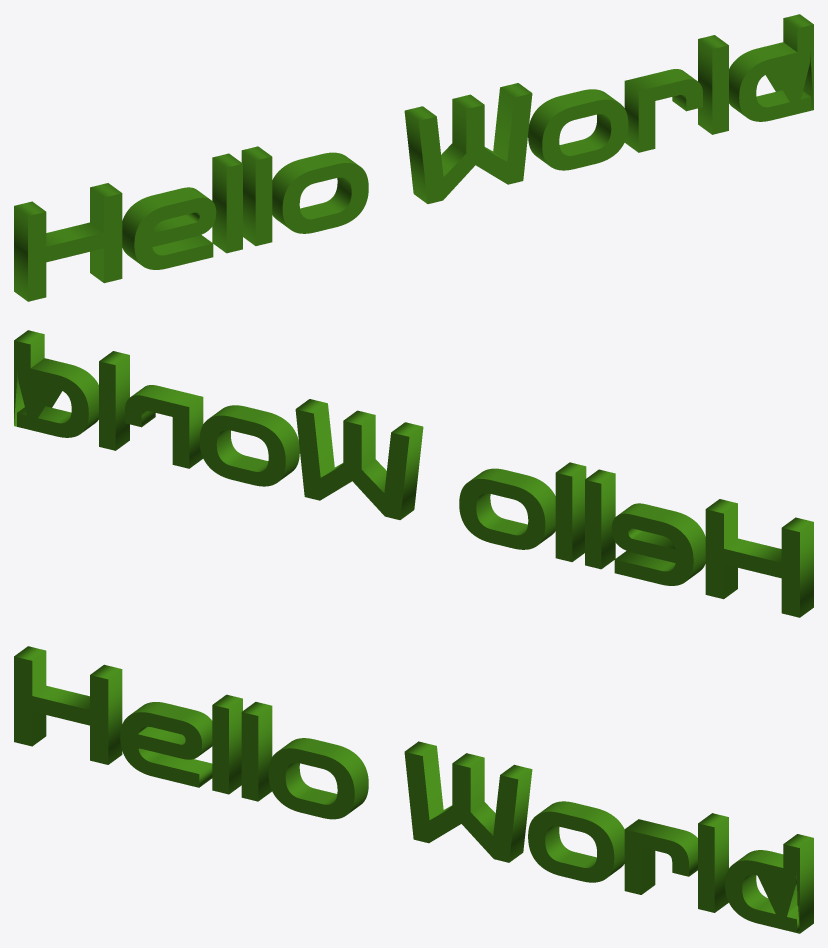
Rendered from hello_world_green.dae.
The picture shows the model from 3 angles, top to bottom: view 1: azimuth 30°, elevation 25°; view 2: azimuth 150°, elevation 25°; view 3: azimuth 330°, elevation 25°; orthographic projection.
Visible parts, largest first — view 1: Text; view 2: Text; view 3: Text.
Part boxes in pixels (x1=…): Text: x1=14, y1=14, x2=813, y2=301; Text: x1=14, y1=330, x2=813, y2=617; Text: x1=14, y1=646, x2=813, y2=933.
Bounding box in the file's own units: 5.79 × 0.6076 × 0.18.
